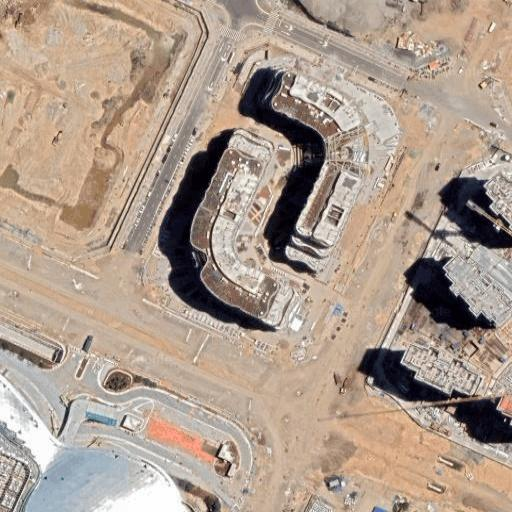building: (0, 376, 182, 512), (186, 136, 298, 338), (264, 65, 361, 246), (428, 254, 510, 333), (396, 347, 476, 399), (478, 181, 512, 234), (285, 230, 327, 260), (279, 245, 321, 275), (497, 398, 512, 436), (123, 414, 143, 432), (218, 444, 235, 463), (227, 463, 237, 477), (371, 505, 389, 512), (428, 61, 439, 69), (397, 38, 405, 48)
